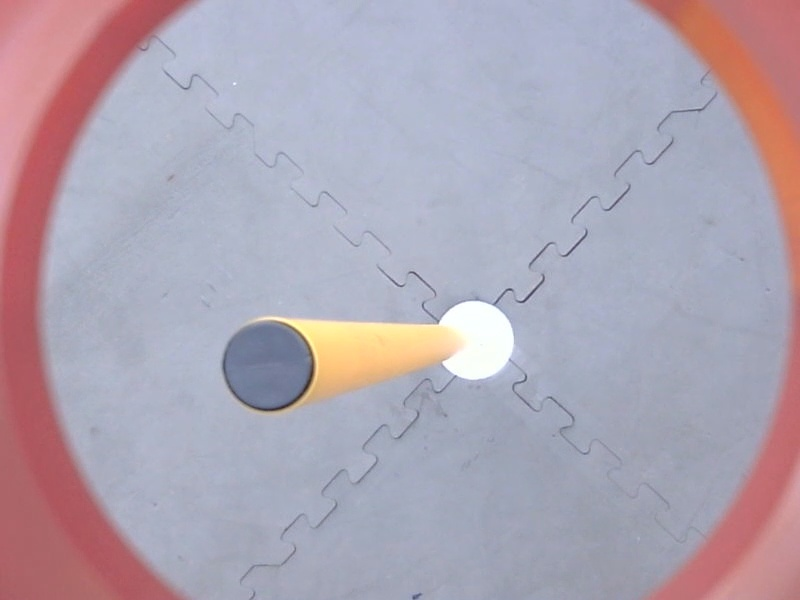tip: (217, 314, 323, 421)
